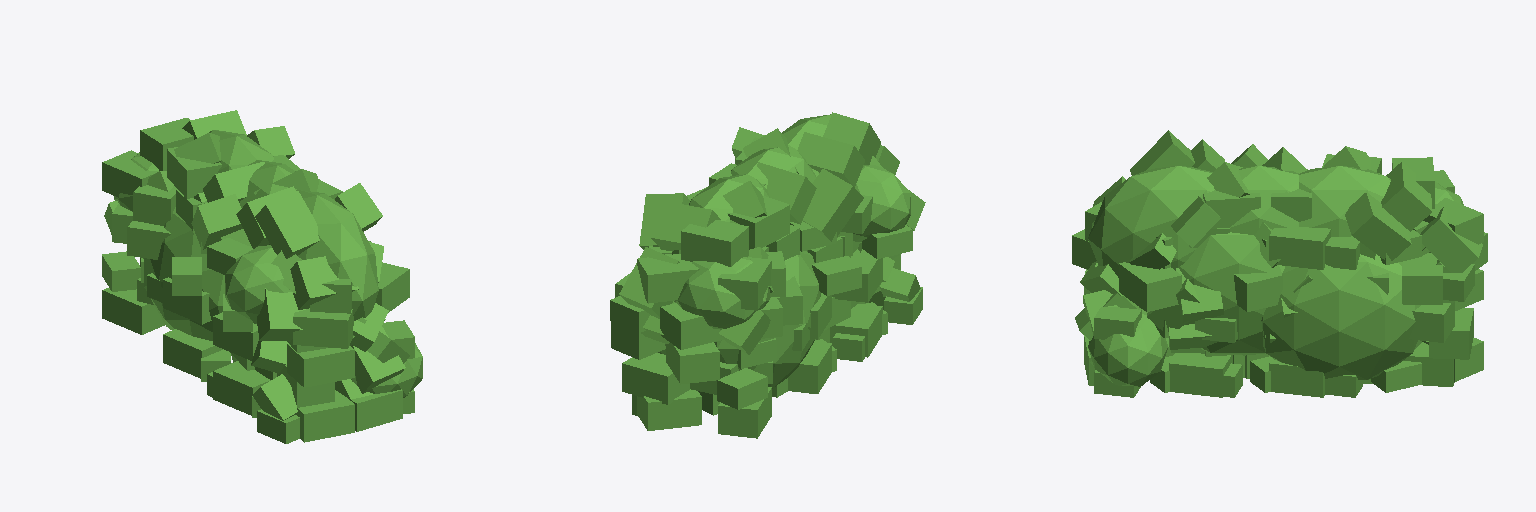
The model's file is bush.obj.
3 views of the same model, side by side, from view 1: azimuth 30°, elevation 25°; view 2: azimuth 150°, elevation 25°; view 3: azimuth 270°, elevation 25° (orthographic).
Bounding box in the file's own units: 1.02 × 1.18 × 2.07.